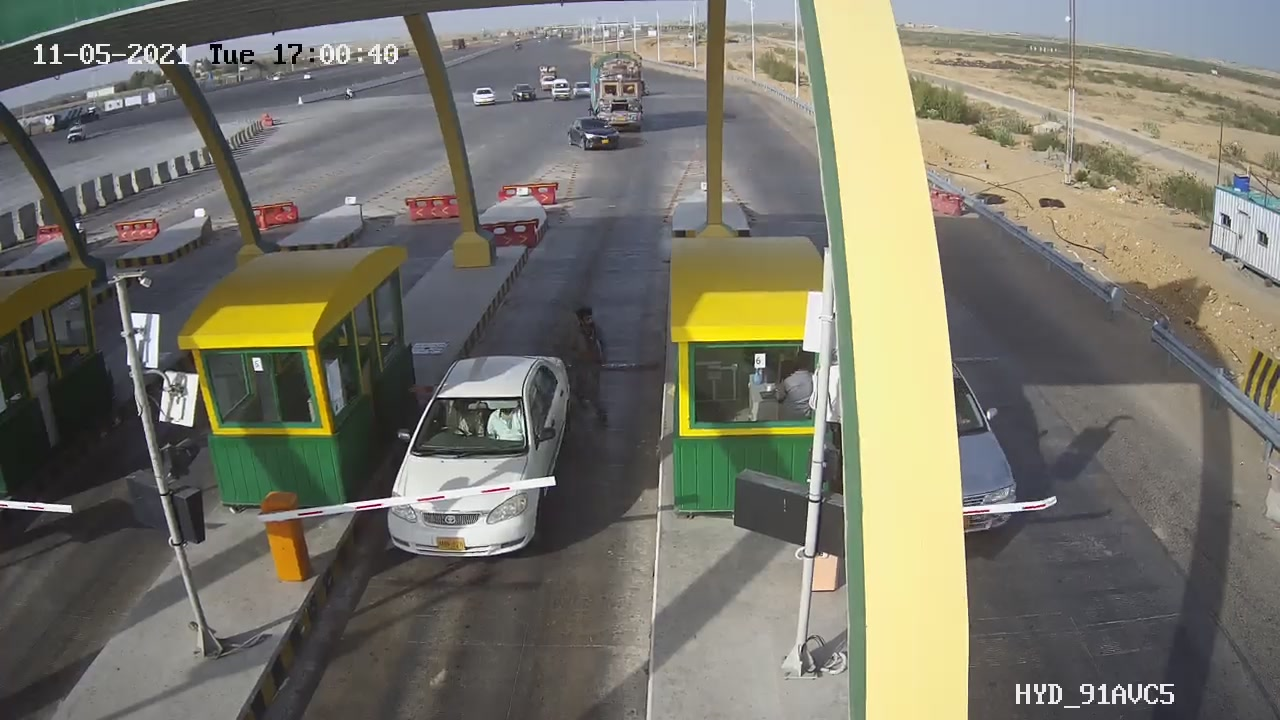F1: (373, 335, 590, 574)
